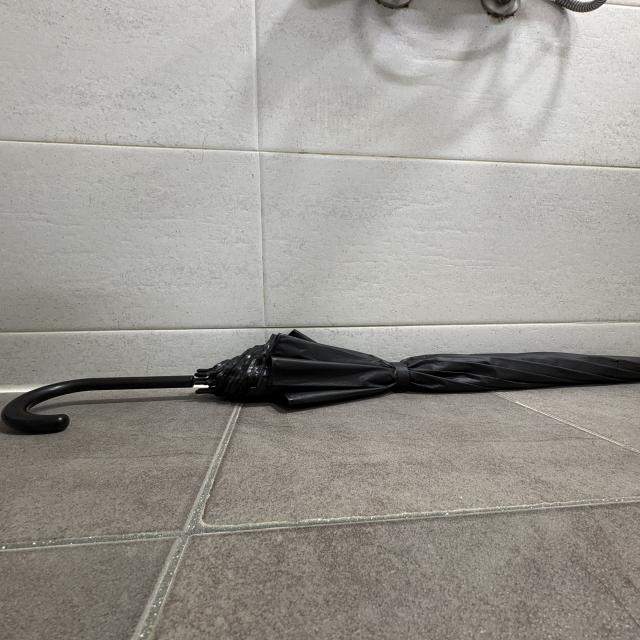umbrella: (2, 330, 640, 437)
